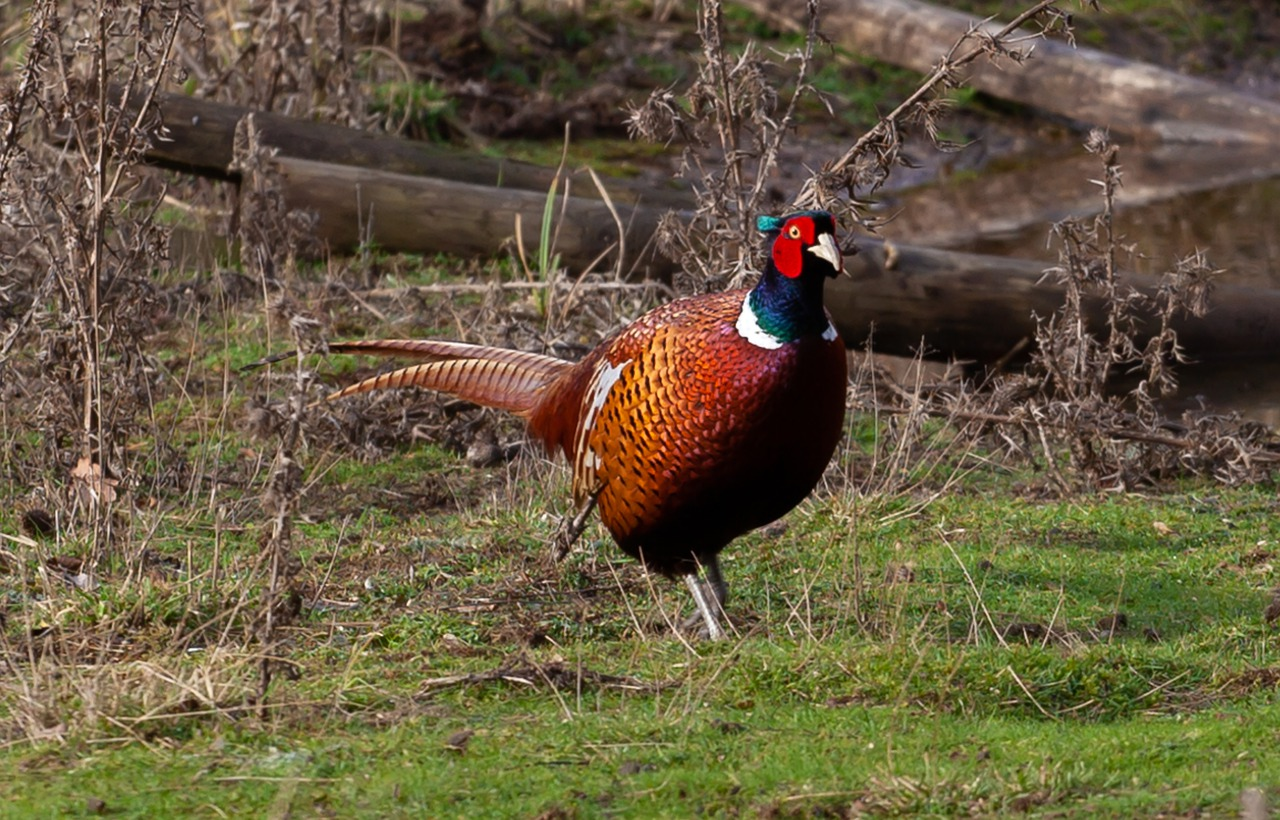pheasant: (362, 209, 852, 639)
